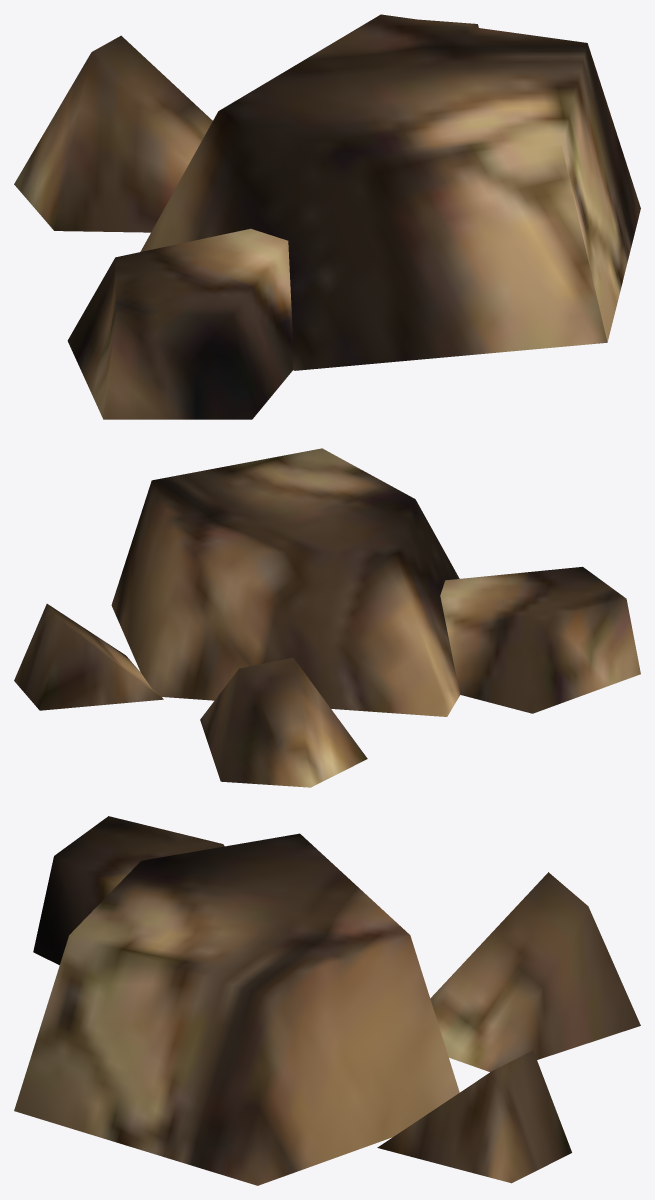
Rendered from dec_red_stone_07_85116.glb.
The picture shows the model from 3 angles, top to bottom: view 1: azimuth 30°, elevation 25°; view 2: azimuth 150°, elevation 25°; view 3: azimuth 270°, elevation 25°; orthographic projection. The views are drawn at different scales.
Parts seen in each view (by area): view 1: red_stone_07_mesh; view 2: red_stone_07_mesh; view 3: red_stone_07_mesh.
Boxes of the visible parts, box(x1,y1,x2,y2) form: red_stone_07_mesh: box(14, 14, 640, 419); red_stone_07_mesh: box(14, 448, 640, 787); red_stone_07_mesh: box(14, 816, 640, 1185).
Size of the model in its own units: 0.7266 by 0.2 by 0.6755.
Materials: 1 (1 with a texture image).
